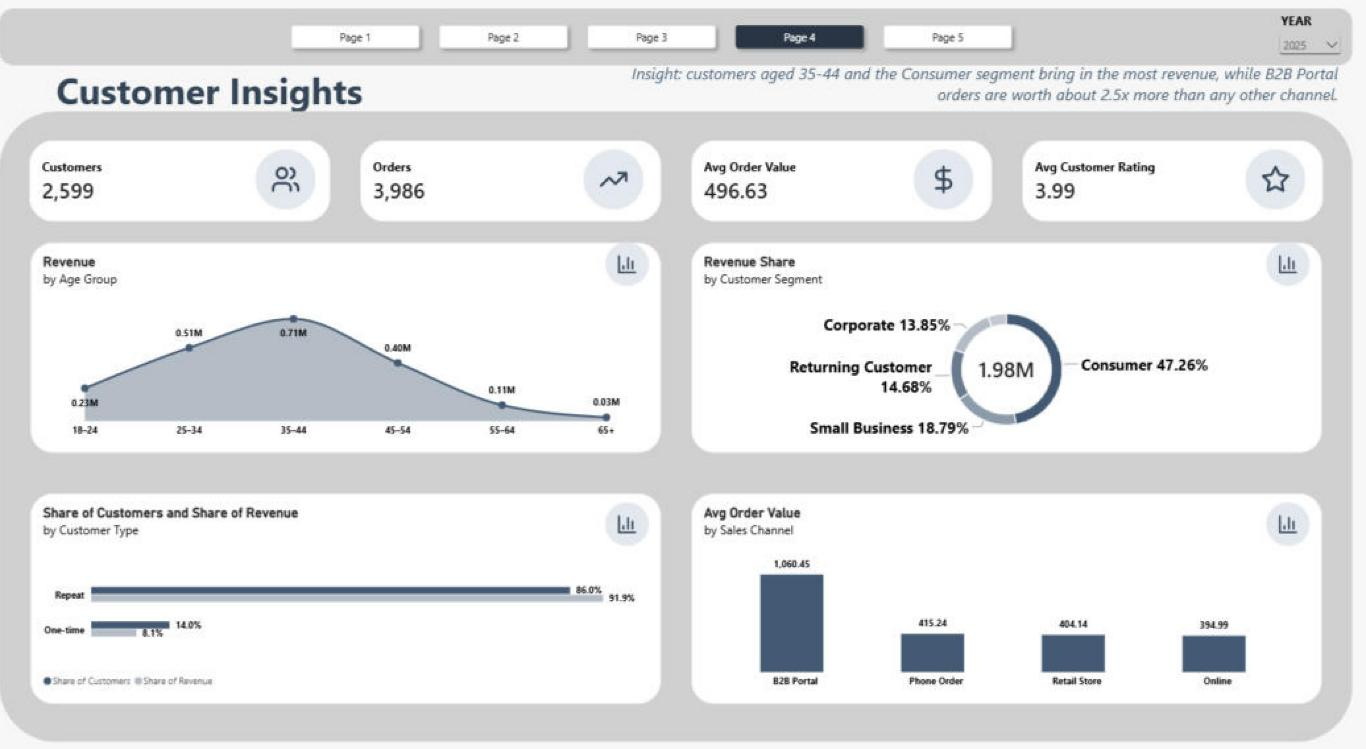

This screenshot's page, from the dashboard's own definition file:
{"tool":"powerbi","page":{"name":"Page 4","canvas":[1920,1080],"ordinal":3},"visuals":[{"type":"shape","box":[59.8,43.8,1800.4,75.9],"z":0},{"type":"shape","box":[59.8,180.9,1800.4,838.9],"z":0,"group":"g1"},{"type":"textbox","title":"Customer Insights","box":[135.7,119.6,640,61.3],"z":1000},{"type":"group","id":"g1","title":"Group 1","box":[59.8,180.9,1800.4,838.9],"z":2000},{"type":"cardVisual","fields":{"Data":["vw_valid_sales.Customers Display"]},"box":[100,219.6,400,108.9],"z":3000,"group":"g1"},{"type":"image","box":[1253.5,231.8,125.5,80.2],"z":3000},{"type":"slicer","fields":{"Values":["vw_valid_sales.Order_Year"]},"box":[1757.1,49.9,93.1,63.2],"z":4000},{"type":"cardVisual","fields":{"Data":["vw_valid_sales.Orders Display"]},"box":[540,219,400,108.9],"z":4000,"group":"g1"},{"type":"cardVisual","fields":{"Data":["vw_valid_sales.Avg Order Value"]},"box":[980,219,400,108.9],"z":5000,"group":"g1"},{"type":"image","box":[850.1,355.7,90,57.6],"z":5000},{"type":"cardVisual","fields":{"Data":["vw_valid_sales.Avg Customer Rating"]},"box":[1420,219,400,108.9],"z":6000,"group":"g1"},{"type":"image","box":[1729.6,355.7,90,57.6],"z":6000},{"type":"areaChart","fields":{"Category":["vw_valid_sales.Age Group"],"Y":["vw_valid_sales.Revenue"]},"box":[100.7,355.7,838.9,279.8],"z":7000,"group":"g1"},{"type":"image","box":[1729.6,701,90,57.6],"z":7000},{"type":"donutChart","title":"Revenue Share","fields":{"Category":["vw_valid_sales.Customer_Segment"],"Y":["vw_valid_sales.Revenue"]},"box":[980.4,355.7,838.9,279.8],"z":8000,"group":"g1"},{"type":"image","box":[850.1,701,90,57.6],"z":8000},{"type":"image","box":[1695,231.8,125.5,80.2],"z":9000},{"type":"clusteredBarChart","fields":{"Category":["vw_valid_sales.Customer Type"],"Y":["vw_valid_sales.Customer Share %","vw_valid_sales.Revenue Share of Total %"]},"box":[100.7,689.5,838.9,279.8],"z":9000,"group":"g1"},{"type":"pageNavigator","box":[439.1,56.9,980.4,49.6],"z":10000},{"type":"columnChart","fields":{"Category":["vw_valid_sales.Sales_Channel"],"Y":["vw_valid_sales.Avg Order Value"]},"box":[980.4,689.5,838.9,279.8],"z":10000,"group":"g1"},{"type":"image","box":[813.7,231.8,125.5,80.2],"z":11000},{"type":"image","box":[377.2,231.8,125.5,80.2],"z":12000},{"type":"textbox","box":[840,116,1000,64],"z":13000}]}

Visuals, with their boxes in screenshot pixels (x1, y1, x2, y2), scaled from the page's 1920x1080 canvas onto the 1366x749 screenshot:
shape: box(43, 30, 1323, 83)
shape: box(43, 125, 1323, 707)
"Customer Insights" textbox: box(97, 83, 552, 125)
"Group 1" group: box(43, 125, 1323, 707)
cardVisual - vw_valid_sales.Customers Display: box(71, 152, 356, 228)
image: box(892, 161, 981, 216)
slicer - vw_valid_sales.Order_Year: box(1250, 35, 1316, 78)
cardVisual - vw_valid_sales.Orders Display: box(384, 152, 669, 227)
cardVisual - vw_valid_sales.Avg Order Value: box(697, 152, 982, 227)
image: box(605, 247, 669, 287)
cardVisual - vw_valid_sales.Avg Customer Rating: box(1010, 152, 1295, 227)
image: box(1231, 247, 1295, 287)
areaChart - vw_valid_sales.Age Group x vw_valid_sales.Revenue: box(72, 247, 668, 441)
image: box(1231, 486, 1295, 526)
"Revenue Share" donutChart: box(698, 247, 1294, 441)
image: box(605, 486, 669, 526)
image: box(1206, 161, 1295, 216)
clusteredBarChart - vw_valid_sales.Customer Type x vw_valid_sales.Customer Share %: box(72, 478, 668, 672)
pageNavigator: box(312, 39, 1010, 74)
columnChart - vw_valid_sales.Sales_Channel x vw_valid_sales.Avg Order Value: box(698, 478, 1294, 672)
image: box(579, 161, 668, 216)
image: box(268, 161, 358, 216)
textbox: box(598, 80, 1309, 125)
